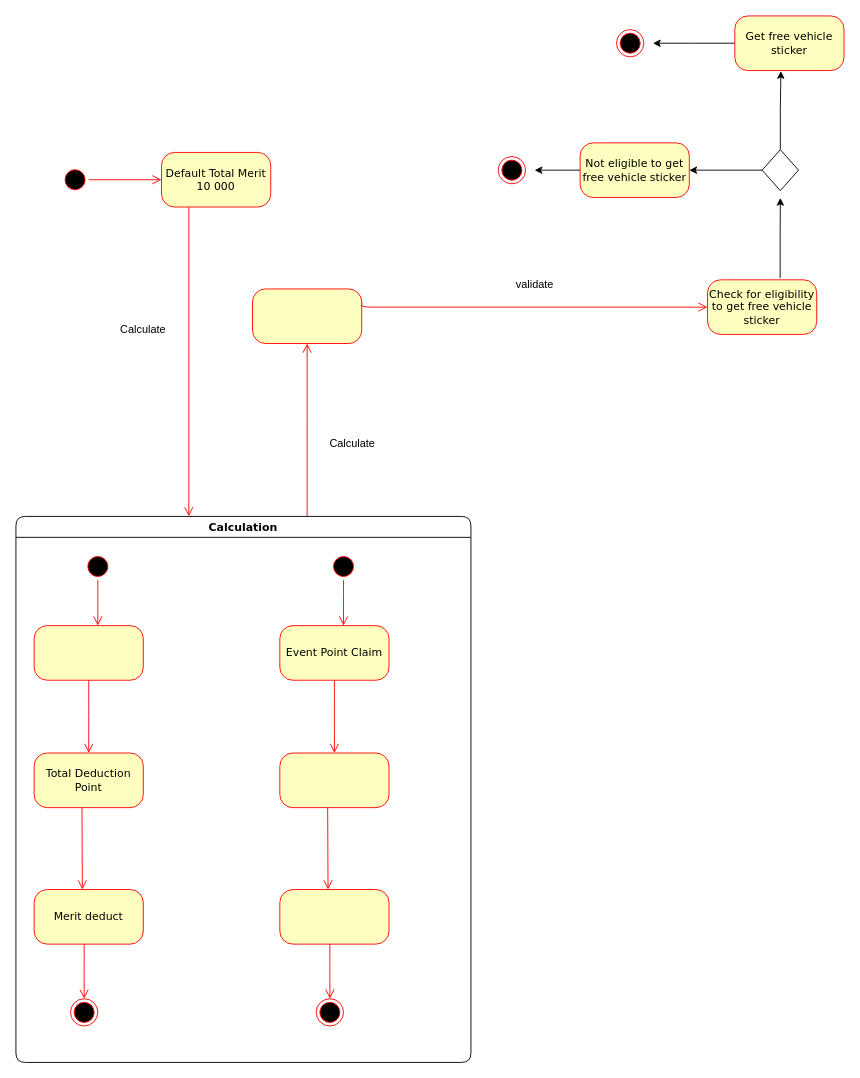
The diagram is 860 pixels wide and 1078 high, and some of its shapes have lost their labels. The shapes that lost their labels are listed below. From the top down, each one's centre as x and y in pixels, then its label:
At (307,316): "Cumulative point by the end of year".
At (88,652): "Violation Detected".
At (334,780): "Total Point".
At (334,916): "Merit Point Added".
